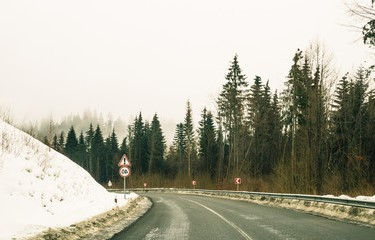leftTrun: (105, 166, 297, 240)
